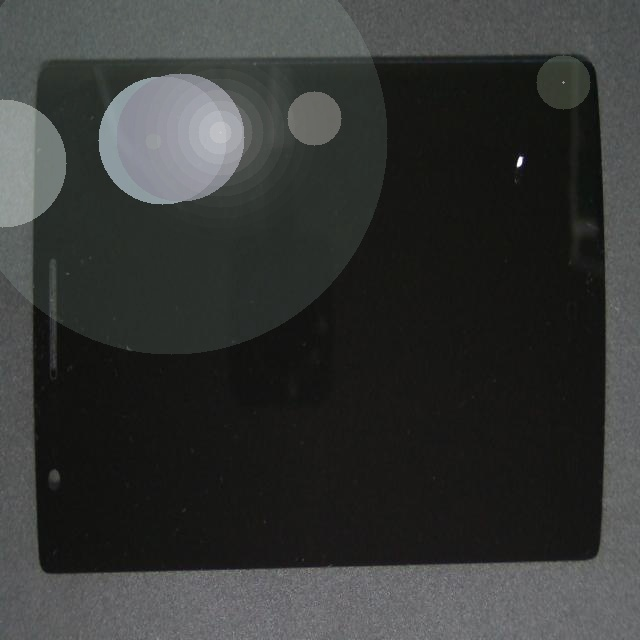stain: (278, 93, 640, 231)
